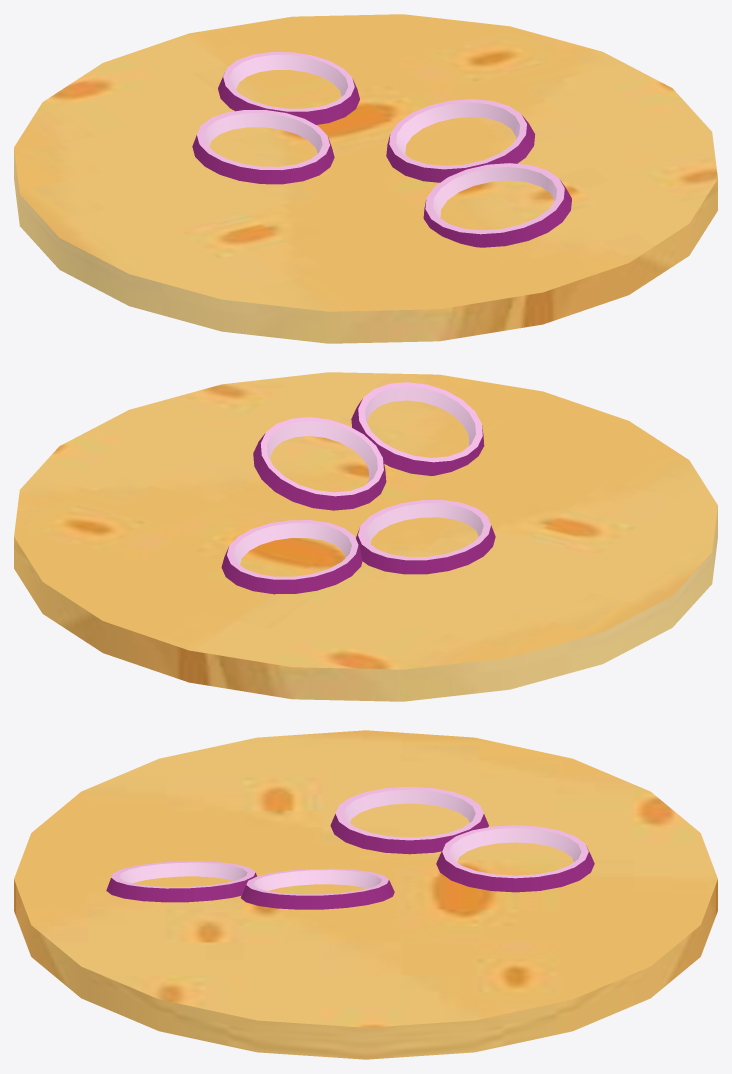
Rendered from taco_Cebolla.glb.
3 views of the same model, one above another, from view 1: azimuth 30°, elevation 25°; view 2: azimuth 150°, elevation 25°; view 3: azimuth 270°, elevation 25° (orthographic).
Parts seen in each view (by area): view 1: tortilla.002, Onion_Slice_Onion_0.001, Onion_Slice_Onion_0; view 2: tortilla.002, Onion_Slice_Onion_0.001, Onion_Slice_Onion_0; view 3: tortilla.002, Onion_Slice_Onion_0, Onion_Slice_Onion_0.001.
Part boxes in pixels (x1,y1,x2,y2): tortilla.002: [14, 14, 717, 343]; Onion_Slice_Onion_0.001: [386, 99, 571, 247]; Onion_Slice_Onion_0: [192, 52, 359, 184]; tortilla.002: [14, 372, 717, 701]; Onion_Slice_Onion_0.001: [253, 382, 484, 510]; Onion_Slice_Onion_0: [221, 500, 495, 594]; tortilla.002: [14, 730, 717, 1059]; Onion_Slice_Onion_0: [330, 786, 594, 892]; Onion_Slice_Onion_0.001: [106, 861, 394, 909].
Bounding box in the file's own units: 0.2118 × 0.0248 × 0.2118.
2 materials, 2 textured.
